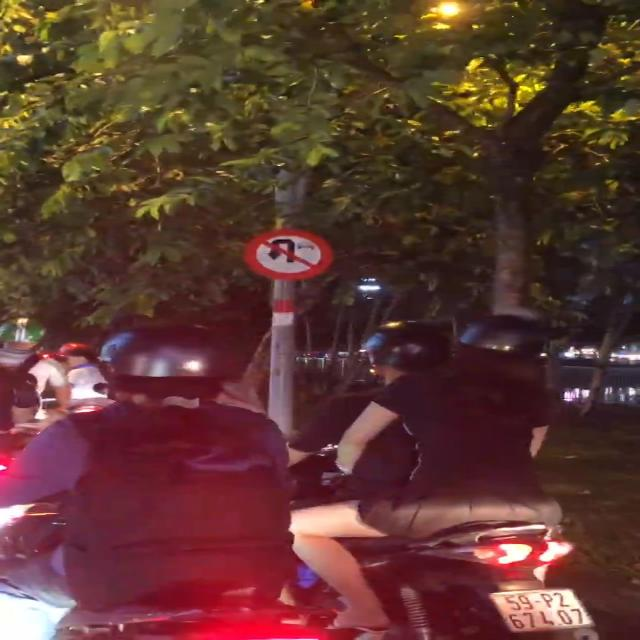Bien bao cam quay dau xe: (234, 228, 334, 279)
